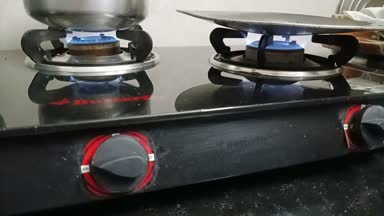flame_gas_on: (45, 27, 160, 195), (216, 26, 341, 74)
